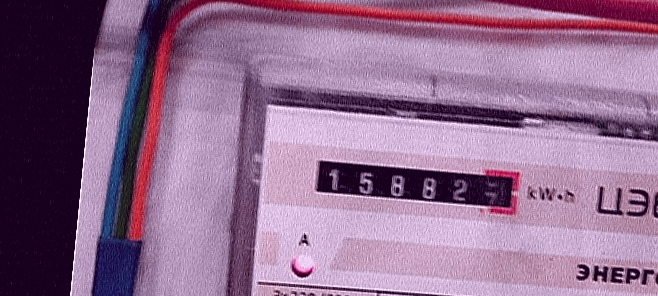1: (324, 167, 340, 193)
2: (449, 176, 468, 204)
5: (355, 170, 373, 197)
7: (480, 189, 496, 207)
8: (385, 173, 405, 199), (417, 174, 436, 201)
screen: (298, 145, 529, 227)
